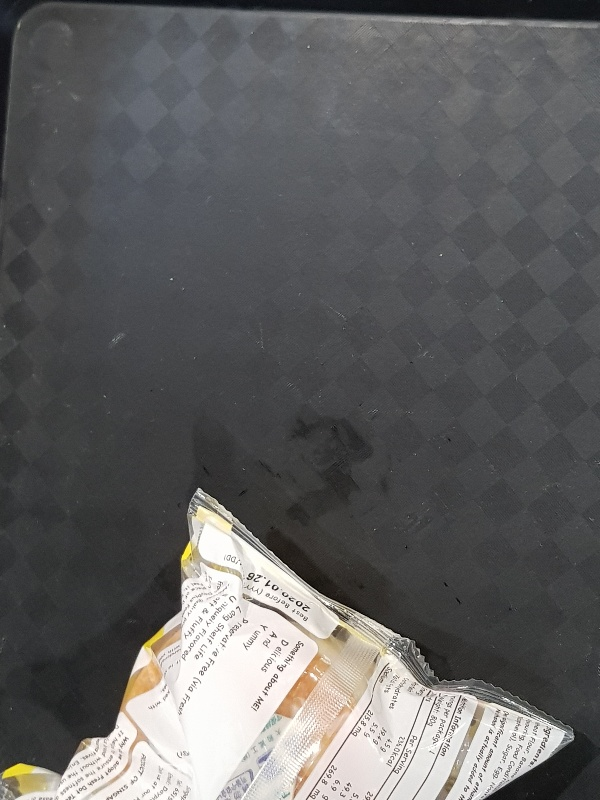Dayplus Banana: (3, 487, 576, 800)
